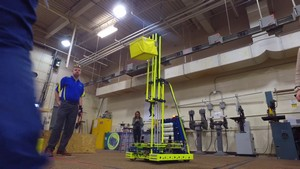cube: (129, 38, 158, 60)
